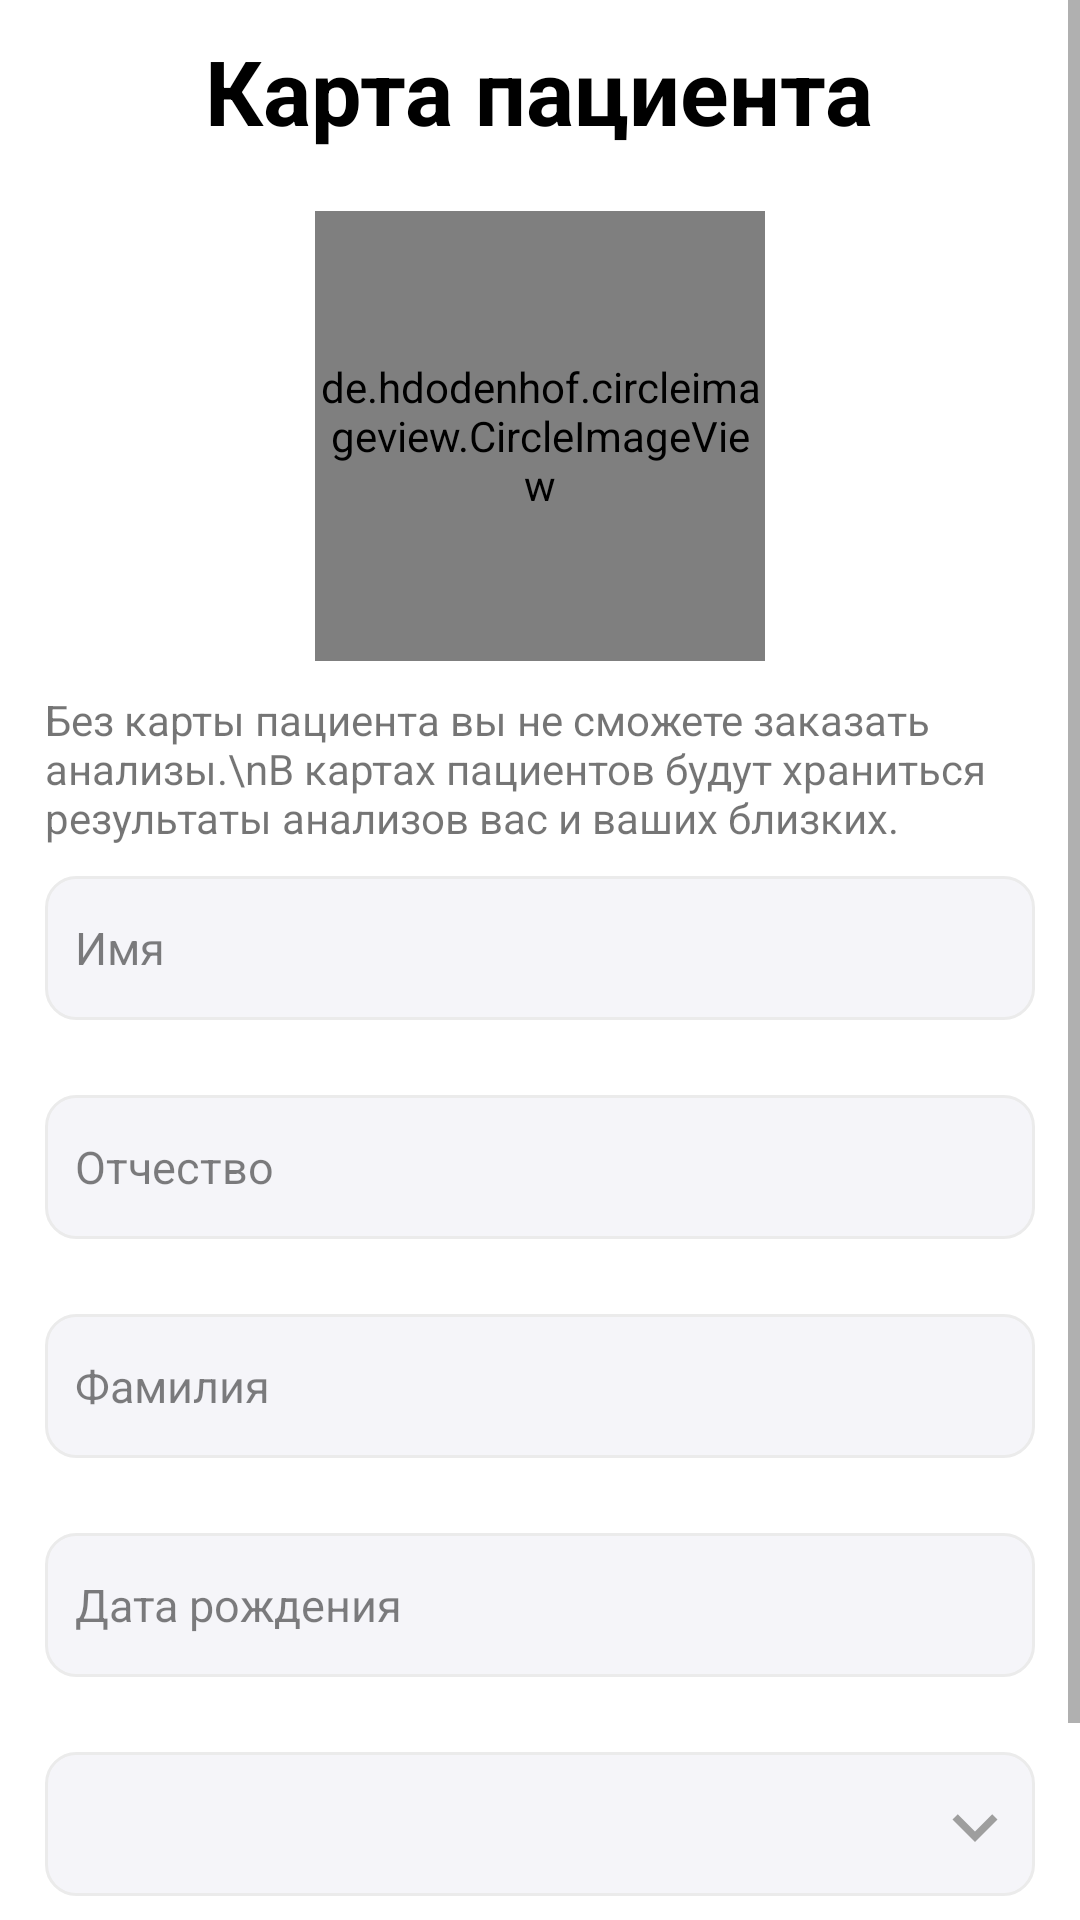

Screen size 1080*1920. Icon name, then its center in pixels as (x,y):
keyboard arrow down: (975,1828)
